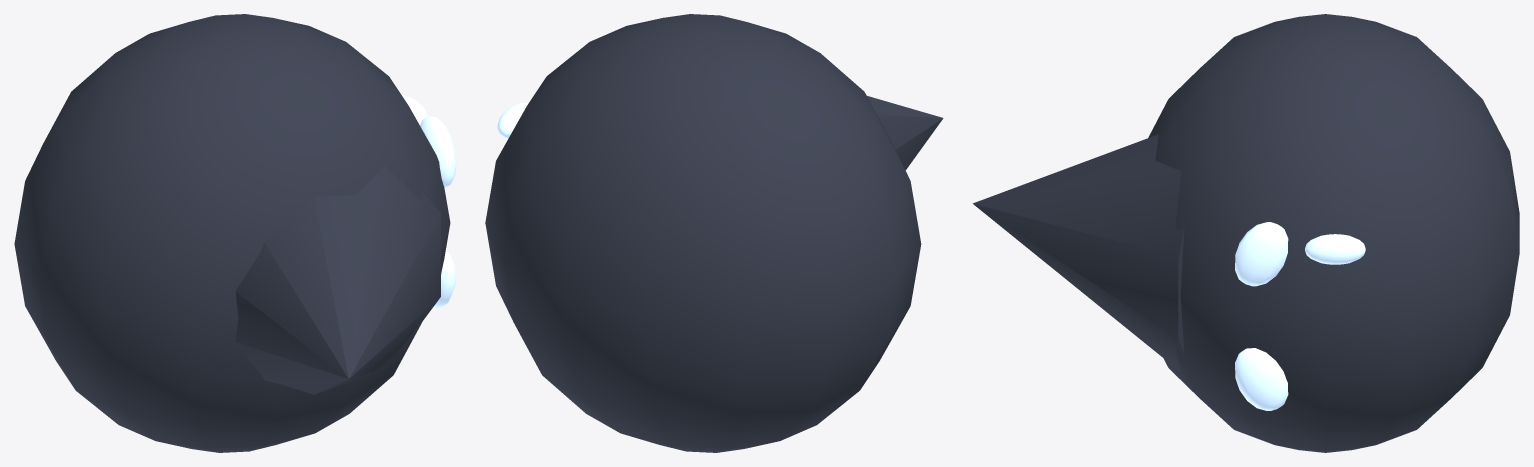
The model's file is trauma-samotnosc.glb.
The picture shows the model from 3 angles, left to right: view 1: azimuth 30°, elevation 25°; view 2: azimuth 150°, elevation 25°; view 3: azimuth 270°, elevation 25°; orthographic projection.
Visible parts, largest first — view 1: Shadow, Glow; view 2: Shadow, Glow; view 3: Shadow, Glow.
Part boxes in pixels (x1,y1,x2,y2): Shadow: (14,14,450,452); Glow: (402,95,456,308); Shadow: (485,14,943,452); Glow: (497,102,528,138); Shadow: (972,14,1519,452); Glow: (1235,222,1365,410).
Bounding box in the file's own units: 0.9015 × 0.9 × 1.11.
